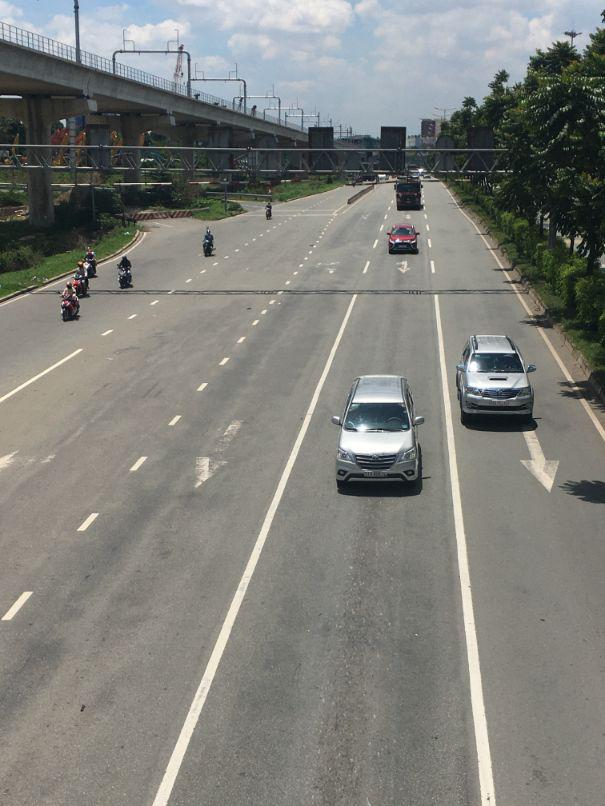car: (333, 372, 427, 495), (455, 332, 538, 428), (387, 225, 419, 256)
motorbike: (60, 286, 79, 319), (203, 229, 216, 257), (264, 202, 271, 220)
truck: (397, 183, 424, 214)
